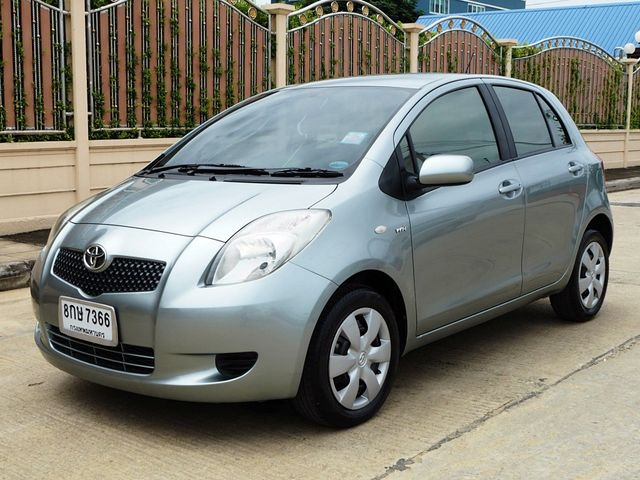sedan: (28, 70, 616, 430)
